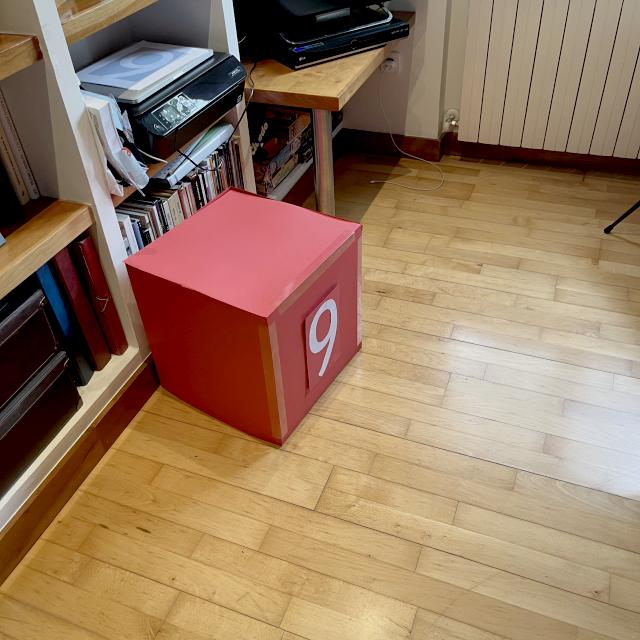box: (121, 184, 367, 448)
